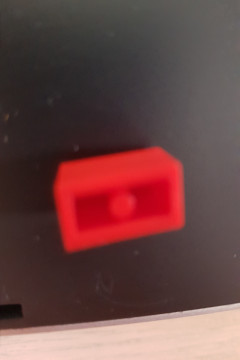1x2 red: (52, 146, 186, 253)
